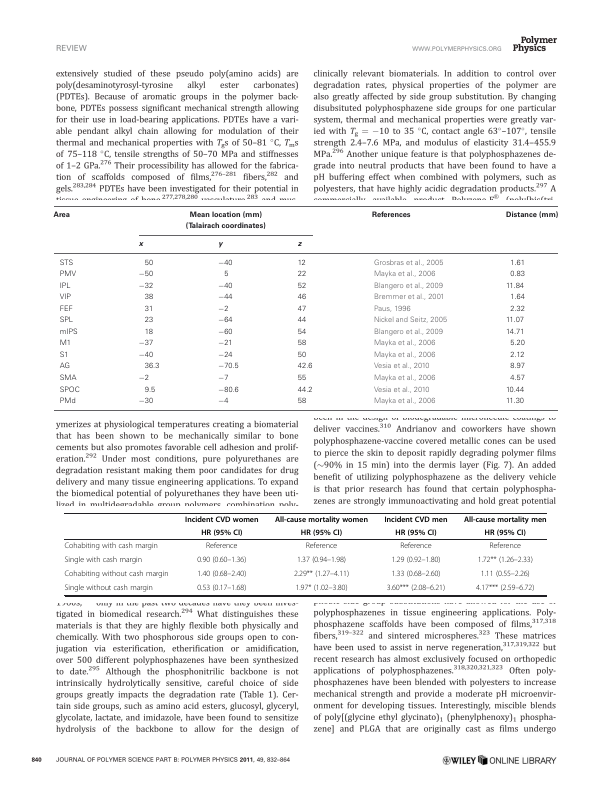borderless: (53, 205, 558, 410), (63, 511, 546, 595)
cell: (185, 211, 267, 231), (63, 569, 169, 579), (63, 541, 159, 551), (64, 583, 154, 593), (274, 515, 369, 524), (63, 555, 143, 565), (463, 515, 547, 524), (373, 316, 448, 325), (184, 515, 259, 524), (373, 294, 445, 303), (373, 259, 444, 268), (373, 282, 444, 291), (373, 328, 444, 337), (386, 583, 446, 593), (475, 583, 535, 593), (383, 515, 448, 524), (477, 555, 534, 565), (293, 569, 350, 579), (373, 351, 436, 360), (373, 374, 436, 383), (373, 397, 436, 406), (294, 583, 348, 593), (373, 363, 430, 372), (373, 386, 430, 395), (196, 555, 247, 565), (296, 555, 347, 565), (390, 555, 441, 565), (196, 569, 247, 579), (390, 569, 441, 579), (480, 569, 531, 579), (196, 583, 247, 593), (373, 271, 436, 279), (373, 340, 436, 348), (505, 211, 559, 219), (200, 528, 243, 538), (300, 528, 343, 538), (394, 528, 437, 538), (484, 528, 527, 538), (373, 305, 412, 314), (399, 541, 433, 551), (488, 541, 522, 551), (205, 541, 238, 551), (305, 541, 338, 551), (371, 211, 412, 219), (217, 363, 240, 372), (217, 386, 240, 395), (59, 386, 81, 395), (505, 282, 525, 291), (505, 316, 525, 325), (59, 328, 79, 337), (505, 328, 525, 337), (505, 386, 525, 395), (505, 397, 525, 406), (59, 374, 77, 383), (59, 397, 77, 406), (217, 259, 234, 268), (509, 259, 526, 268), (217, 282, 234, 291), (217, 294, 234, 303), (509, 294, 526, 303), (509, 305, 526, 314), (217, 316, 234, 325), (217, 328, 234, 337), (217, 340, 234, 349), (217, 351, 234, 360), (509, 363, 526, 372), (509, 374, 526, 383), (52, 211, 71, 219), (59, 271, 77, 279), (138, 282, 154, 291), (138, 340, 154, 349), (138, 351, 154, 360), (509, 351, 525, 360), (144, 363, 160, 372), (297, 363, 313, 372), (297, 386, 313, 395), (138, 397, 154, 406), (509, 271, 526, 279), (509, 340, 526, 348), (59, 259, 74, 268), (59, 305, 74, 314), (59, 316, 74, 325), (138, 271, 154, 279), (59, 282, 72, 291), (59, 294, 72, 303), (59, 340, 72, 349), (217, 305, 229, 314), (59, 363, 71, 372), (138, 374, 150, 383), (217, 374, 229, 383), (144, 386, 156, 395), (217, 397, 229, 406), (144, 259, 154, 268), (297, 259, 307, 268), (297, 282, 307, 291), (144, 294, 154, 303), (297, 294, 307, 303), (144, 305, 154, 314), (297, 305, 307, 314), (144, 316, 154, 325), (297, 316, 307, 325), (144, 328, 154, 337), (297, 328, 307, 337), (297, 340, 307, 349), (59, 351, 69, 360), (297, 351, 307, 360), (297, 374, 307, 383), (297, 397, 307, 406), (297, 271, 307, 279), (223, 271, 229, 279), (138, 242, 144, 249), (217, 242, 223, 249), (297, 242, 302, 249)
